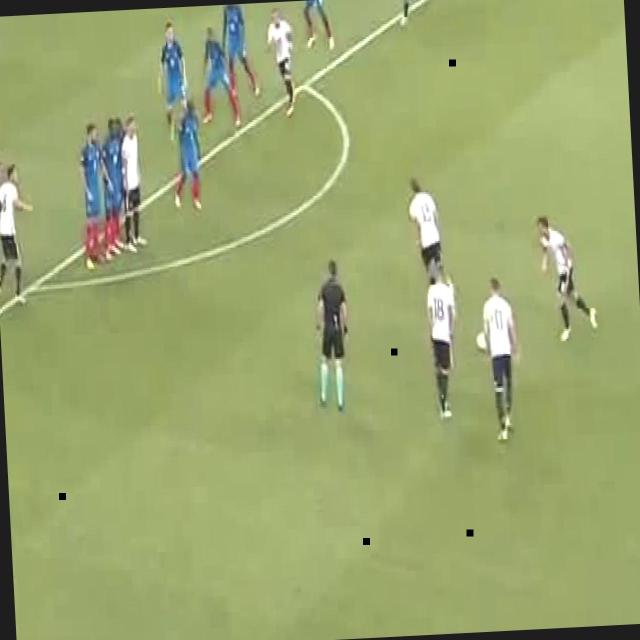ball: (475, 329, 489, 353)
player-white: (534, 212, 598, 342), (482, 278, 522, 441), (407, 177, 453, 313), (312, 260, 352, 414), (78, 123, 116, 271), (426, 262, 460, 418), (0, 163, 36, 303), (153, 20, 191, 142), (198, 28, 240, 128), (118, 115, 148, 251), (169, 100, 203, 214), (99, 116, 125, 258), (220, 3, 258, 98), (265, 6, 295, 118), (296, 0, 334, 50), (0, 159, 6, 289), (397, 0, 421, 29)
